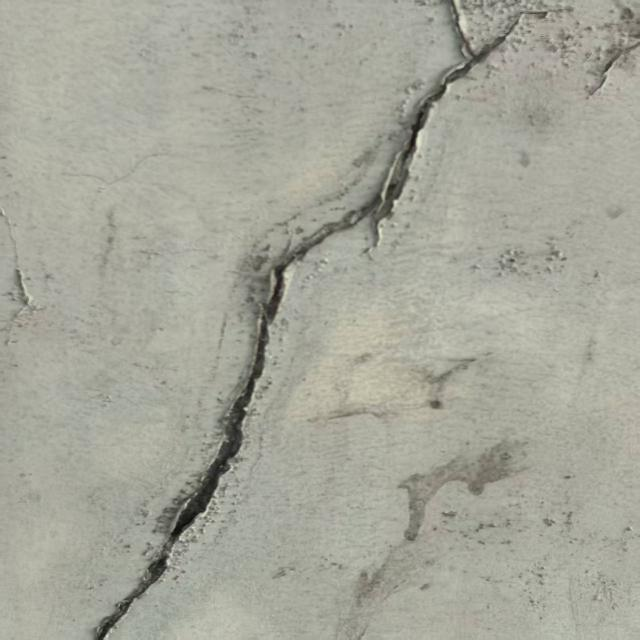crack: (84, 6, 559, 636), (576, 29, 639, 108)
